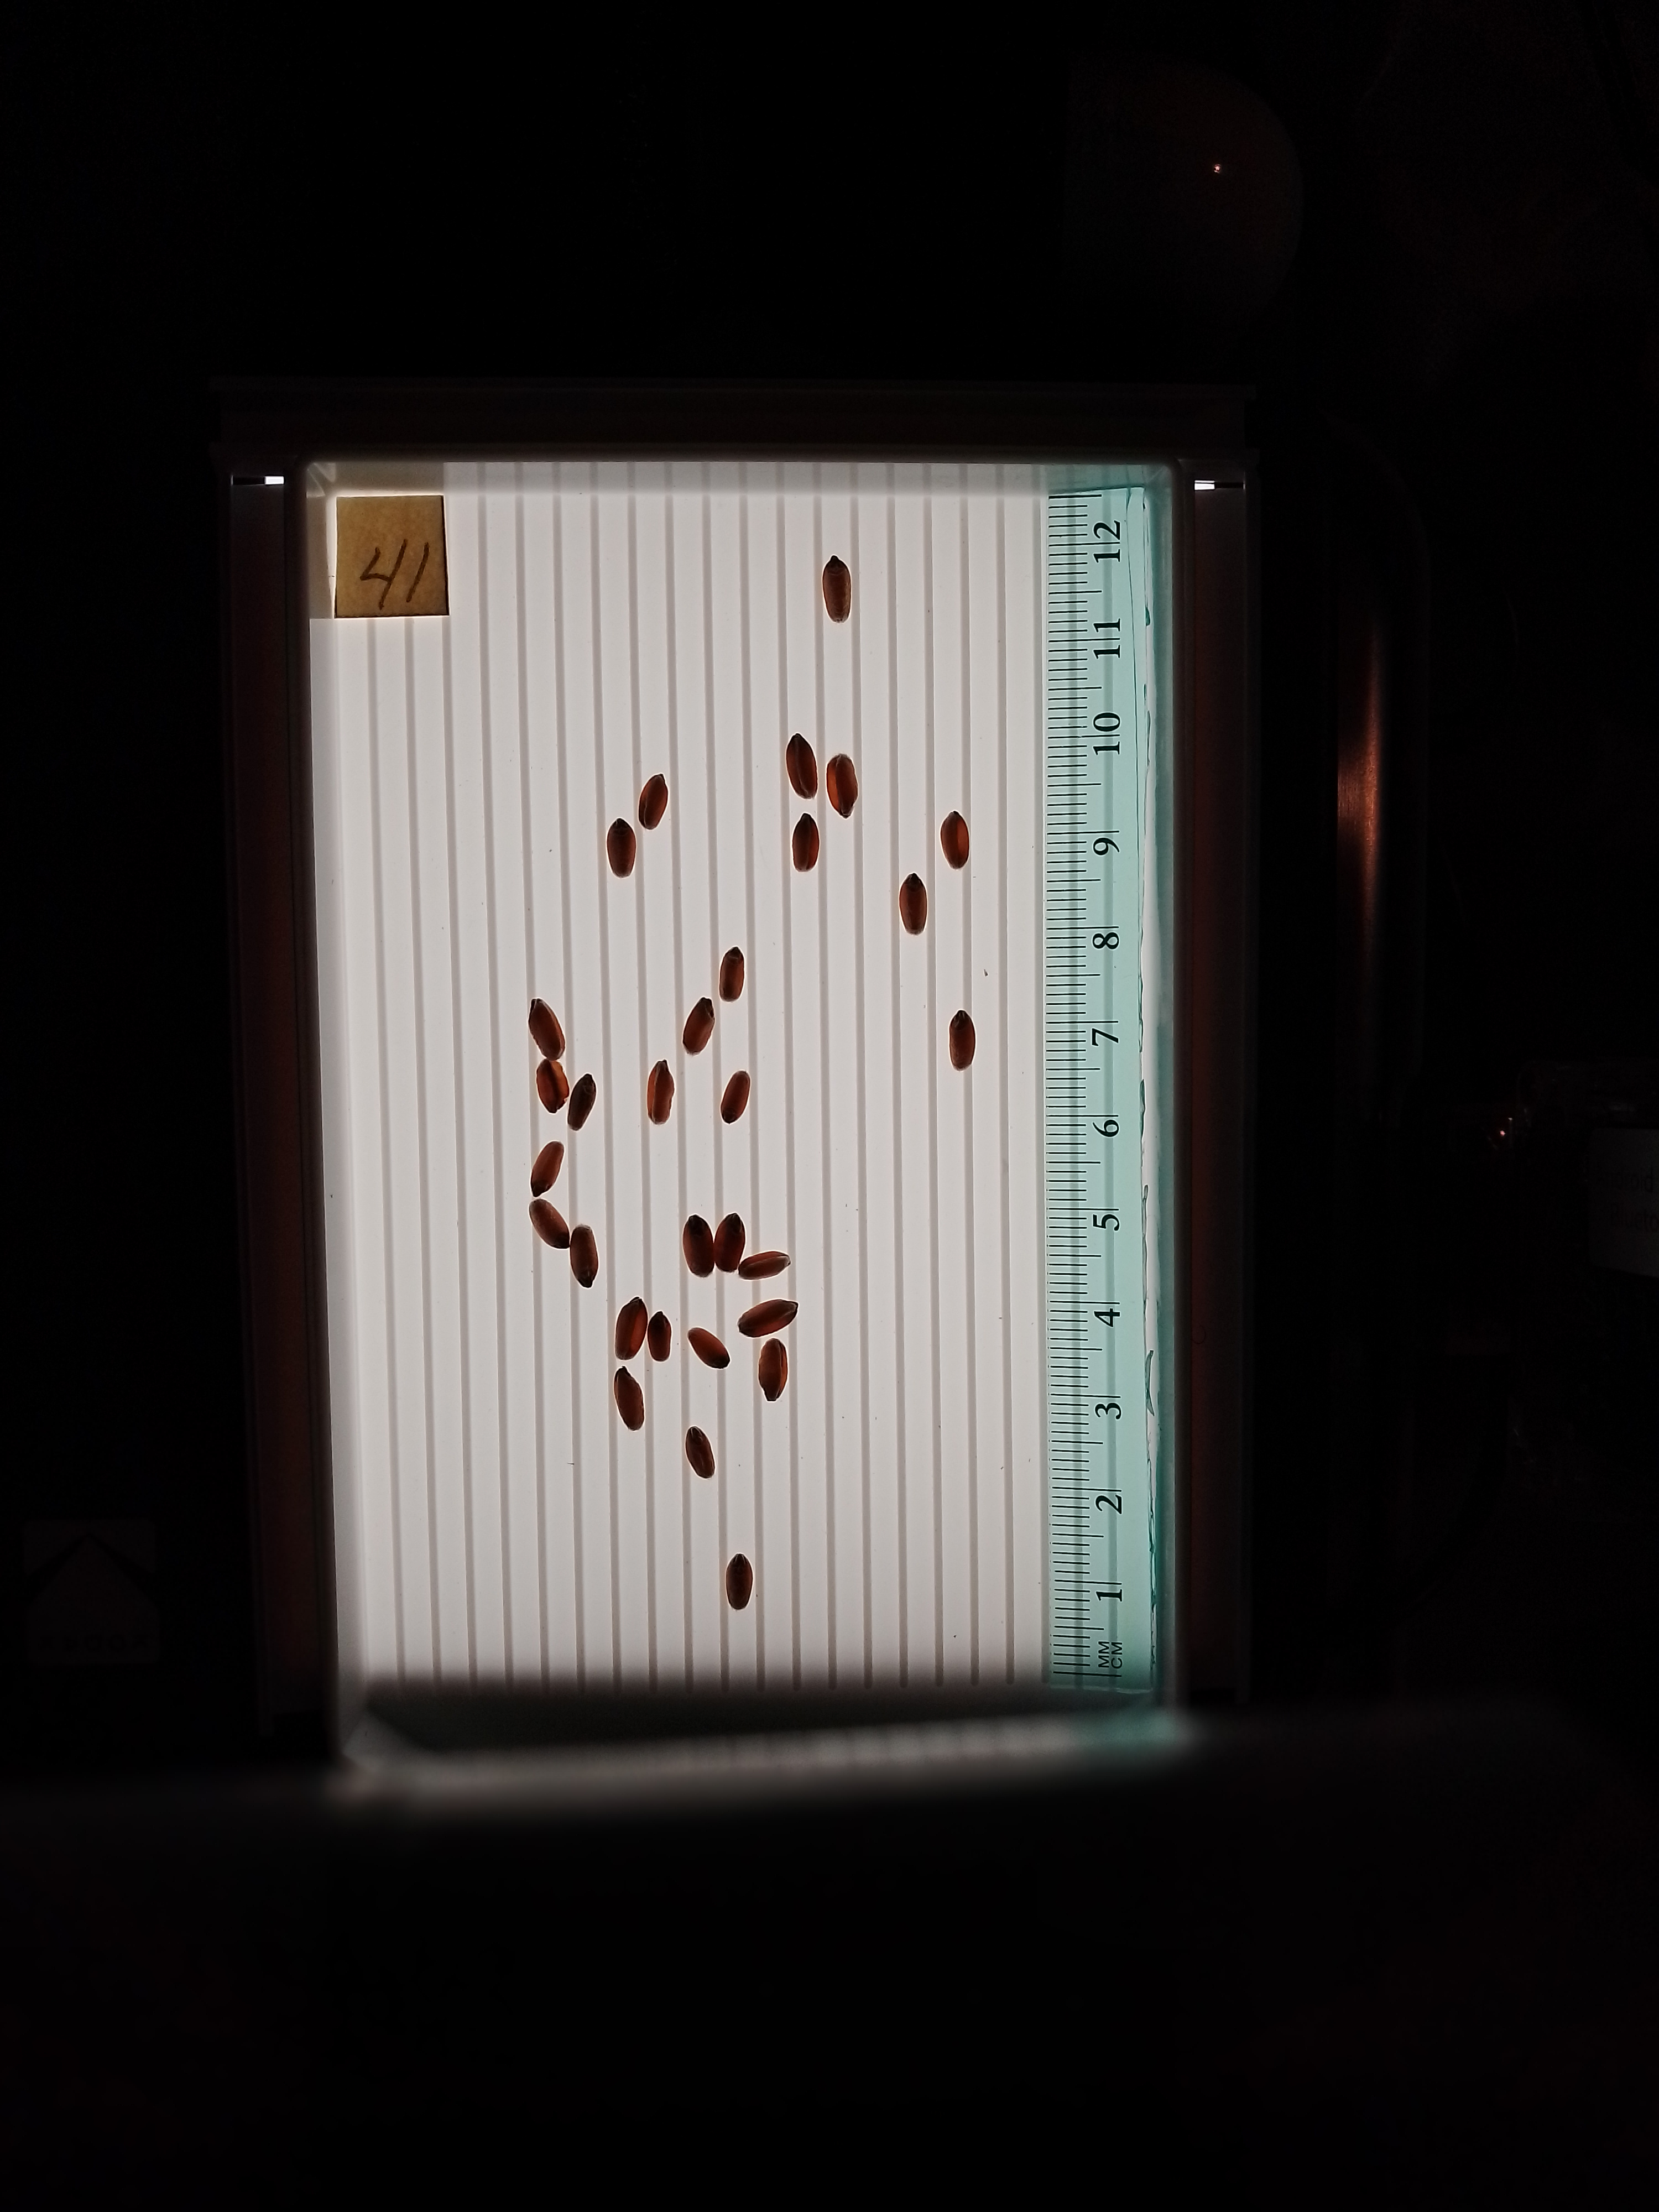seed mask: (737, 1298, 798, 1338), (528, 996, 565, 1059), (528, 1198, 570, 1251), (613, 1298, 648, 1359), (823, 554, 852, 624), (683, 1216, 716, 1277), (826, 756, 857, 819), (713, 1212, 746, 1271), (613, 1367, 645, 1428), (758, 1338, 788, 1402), (788, 733, 816, 799), (647, 1057, 674, 1123), (530, 1143, 565, 1195), (605, 817, 634, 878), (535, 1059, 568, 1113), (948, 1010, 976, 1073), (570, 1226, 598, 1289), (683, 998, 714, 1054), (939, 812, 969, 869), (566, 1075, 596, 1132), (899, 874, 927, 935), (688, 1329, 730, 1369), (791, 813, 819, 873), (638, 773, 667, 827), (720, 1071, 749, 1125), (725, 1554, 753, 1609), (685, 1426, 714, 1479), (737, 1252, 791, 1280), (720, 948, 746, 1003), (647, 1312, 671, 1360)
